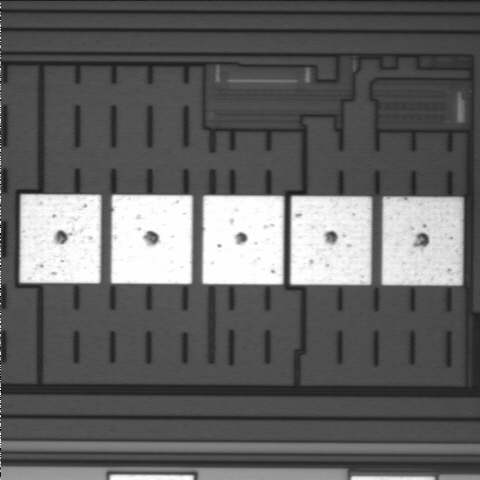pad: (111, 195, 193, 284), (202, 195, 284, 284), (290, 196, 372, 285), (20, 194, 101, 283), (382, 197, 463, 285)
